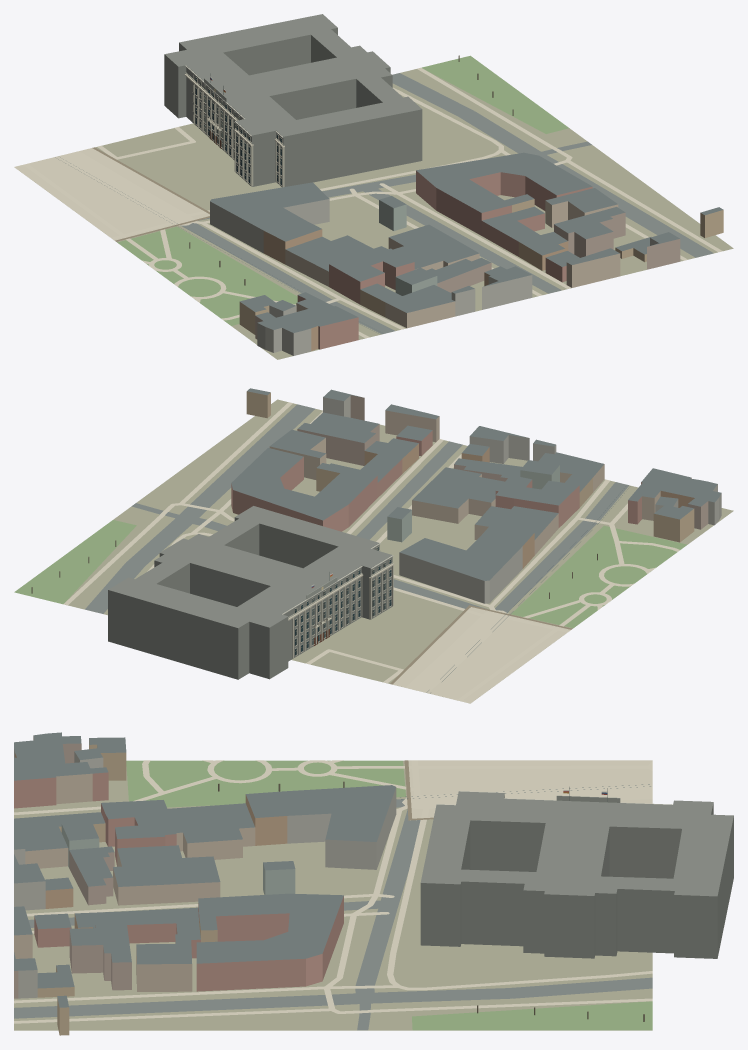
The model's file is sector-0_0.glb.
The picture shows the model from 3 angles, top to bottom: view 1: azimuth 30°, elevation 25°; view 2: azimuth 150°, elevation 25°; view 3: azimuth 270°, elevation 25°; orthographic projection. The views are drawn at different scales.
Visible parts, largest first — view 1: 0:0-stone, 0:0-ground, 0:0-facade, 0:0-roof, 0:0-paving, 0:0-park, 0:0-road, 0:0-glass; view 2: 0:0-stone, 0:0-roof, 0:0-ground, 0:0-facade, 0:0-paving, 0:0-park, 0:0-road, 0:0-glass; view 3: 0:0-stone, 0:0-ground, 0:0-roof, 0:0-facade, 0:0-paving, 0:0-park, 0:0-road.
Part boxes in pixels (left/top/right/bottom): 0:0-stone: left=164, top=14, right=422, bottom=187; 0:0-ground: left=21, top=69, right=733, bottom=359; 0:0-facade: left=210, top=170, right=723, bottom=355; 0:0-roof: left=210, top=152, right=723, bottom=332; 0:0-paving: left=14, top=67, right=722, bottom=338; 0:0-park: left=117, top=55, right=569, bottom=325; 0:0-road: left=181, top=73, right=713, bottom=334; 0:0-glass: left=195, top=77, right=281, bottom=185; 0:0-stone: left=108, top=506, right=394, bottom=679; 0:0-roof: left=231, top=388, right=721, bottom=580; 0:0-ground: left=65, top=399, right=733, bottom=703; 0:0-facade: left=231, top=391, right=721, bottom=603; 0:0-paving: left=63, top=402, right=679, bottom=703; 0:0-park: left=14, top=520, right=687, bottom=628; 0:0-road: left=85, top=404, right=628, bottom=613; 0:0-glass: left=295, top=547, right=391, bottom=655; 0:0-stone: left=420, top=790, right=733, bottom=958; 0:0-ground: left=14, top=760, right=652, bottom=1030; 0:0-roof: left=14, top=732, right=395, bottom=1007; 0:0-facade: left=14, top=735, right=396, bottom=1035; 0:0-paving: left=14, top=760, right=652, bottom=1023; 0:0-park: left=126, top=760, right=652, bottom=1030; 0:0-road: left=14, top=799, right=652, bottom=1030.
Size of the model in its own units: 204 by 26.8 by 225.
